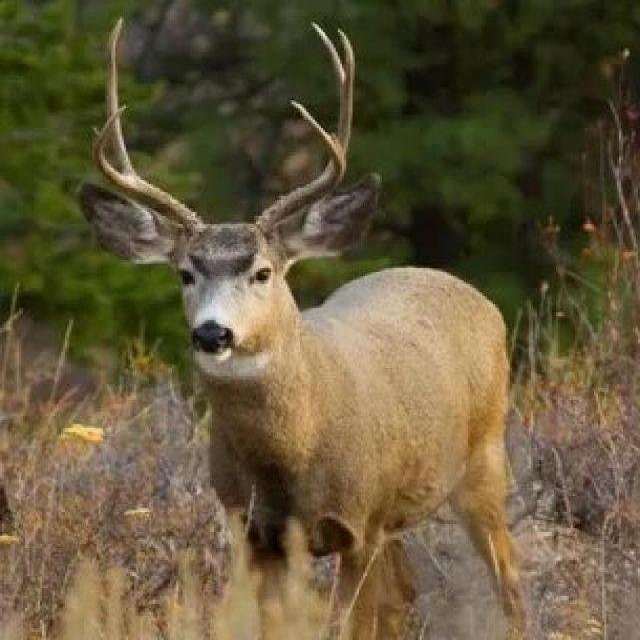deer: (59, 106, 545, 614)
